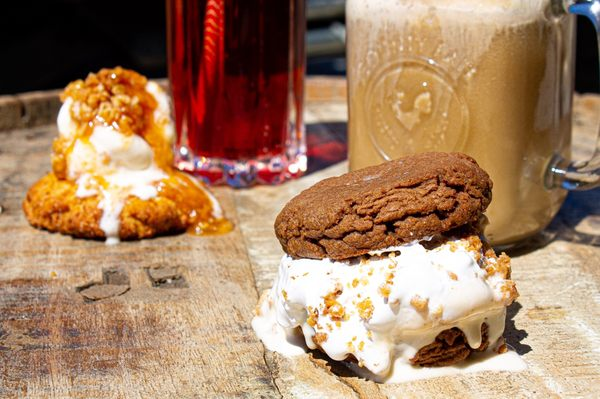pizza: (345, 0, 581, 248), (167, 0, 310, 189)
soup: (264, 151, 520, 384)
